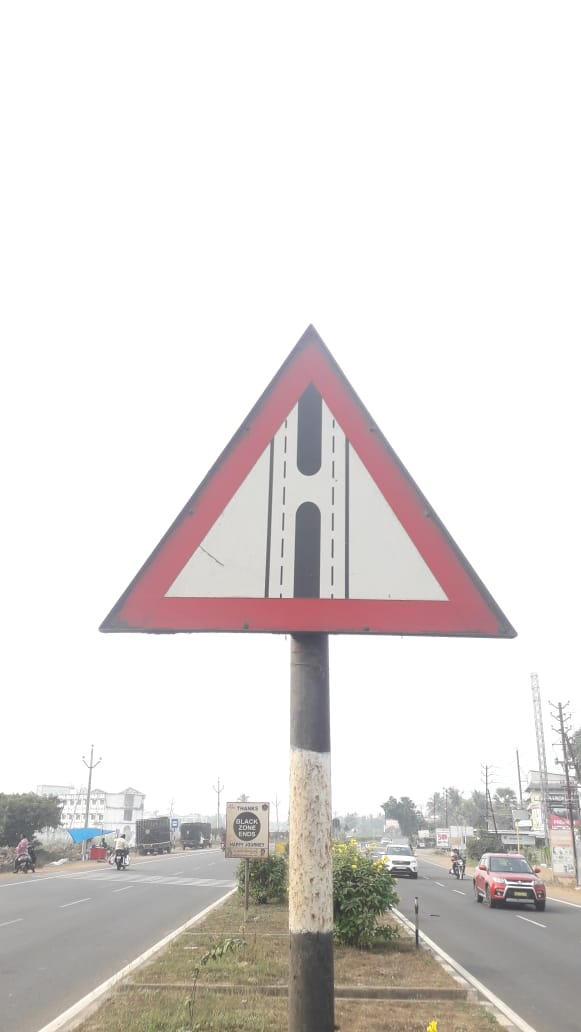highway go straight: (85, 273, 525, 673)
